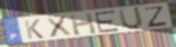E: (93, 9, 121, 34)
H: (68, 11, 99, 36)
K: (22, 19, 45, 40)
U: (117, 6, 145, 31)
X: (44, 15, 74, 38)
Z: (143, 6, 170, 28)
